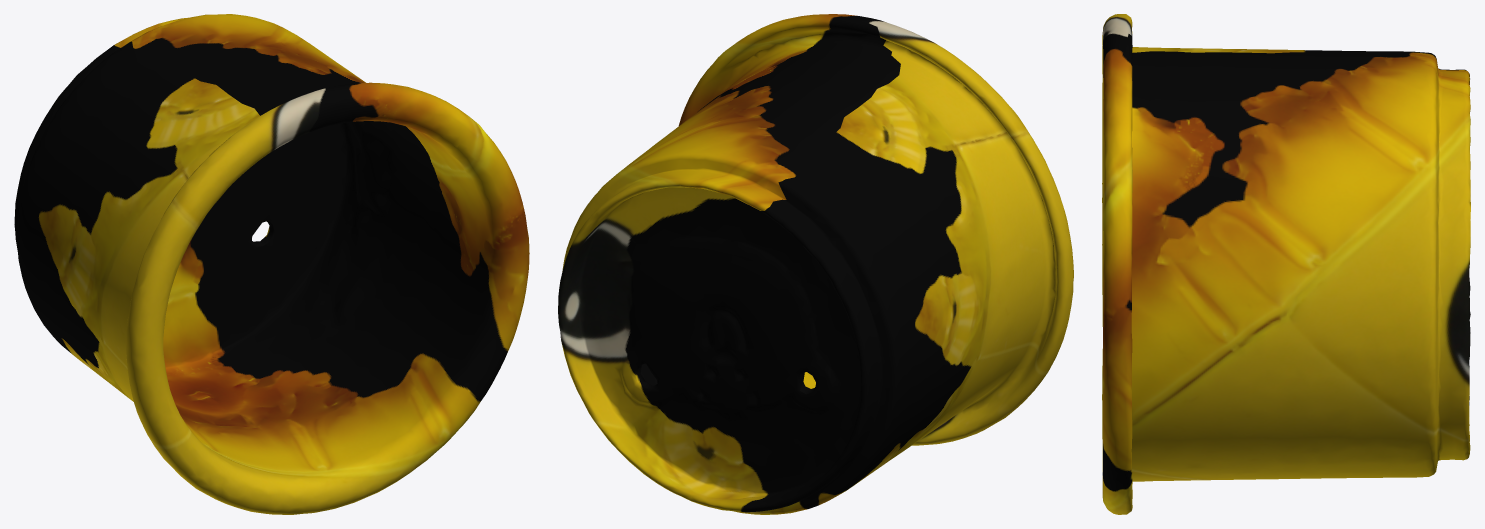
3 views of the same model, side by side, from view 1: azimuth 30°, elevation 25°; view 2: azimuth 150°, elevation 25°; view 3: azimuth 270°, elevation 25° (orthographic). The views are drawn at different scales.
Size of the model in its own units: 0.1024 by 0.103 by 0.0755.
